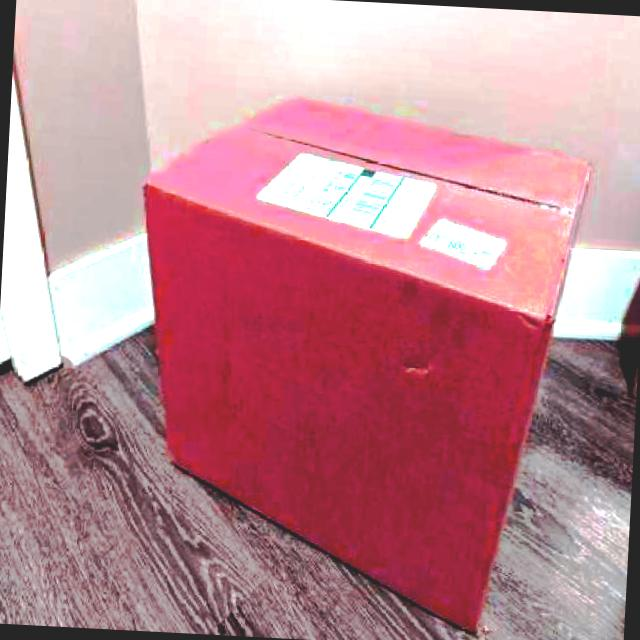Box: (116, 86, 599, 640)
